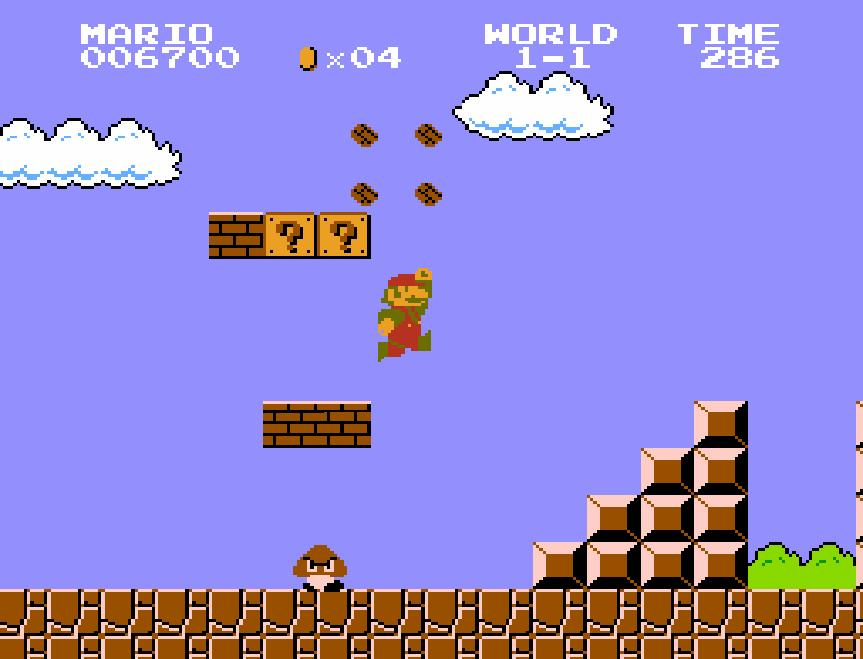big_mario: (376, 266, 434, 364)
